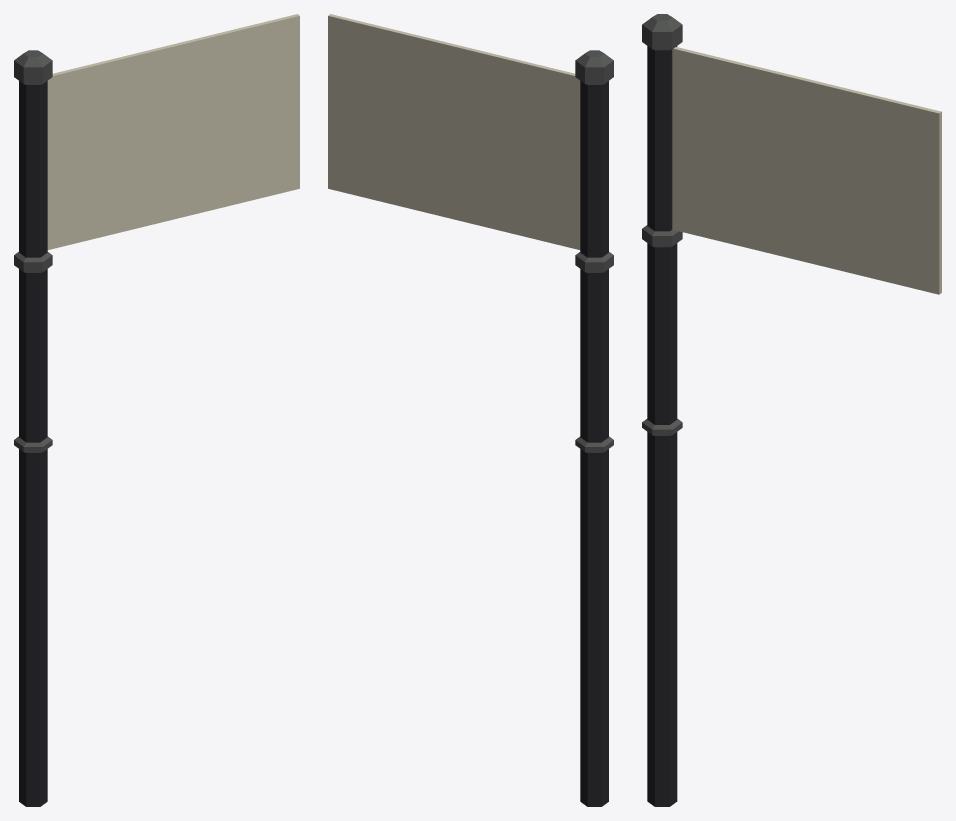
The model's file is LPWarPack_Flag.fbx.
3 views of the same model, side by side, from view 1: azimuth 30°, elevation 25°; view 2: azimuth 150°, elevation 25°; view 3: azimuth 330°, elevation 25° (orthographic). The views are drawn at different scales.
Visible parts, largest first — view 1: Flag; view 2: Flag; view 3: Flag.
Boxes of the visible parts, left/top/right/bottom form: Flag: left=14, top=14, right=299, bottom=806; Flag: left=328, top=14, right=613, bottom=806; Flag: left=642, top=14, right=941, bottom=806.
Size of the model in its own units: 129 by 329 by 15.36.
